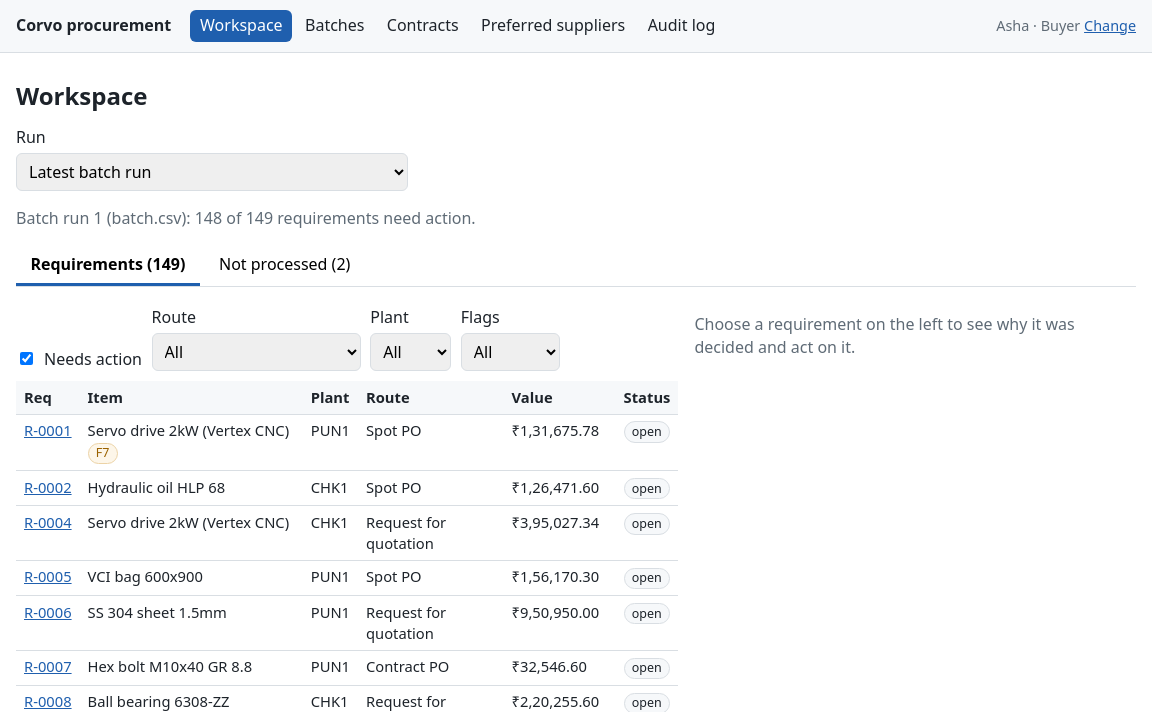
Test case: buyer workspace (B4) › renders the sample batch: the queue shows what needs action, and Not processed has its own tab
This screenshot has width=1152, height=712.
Click the checkbox labelled "Needs action" at (26, 359), box [20,352,33,365]
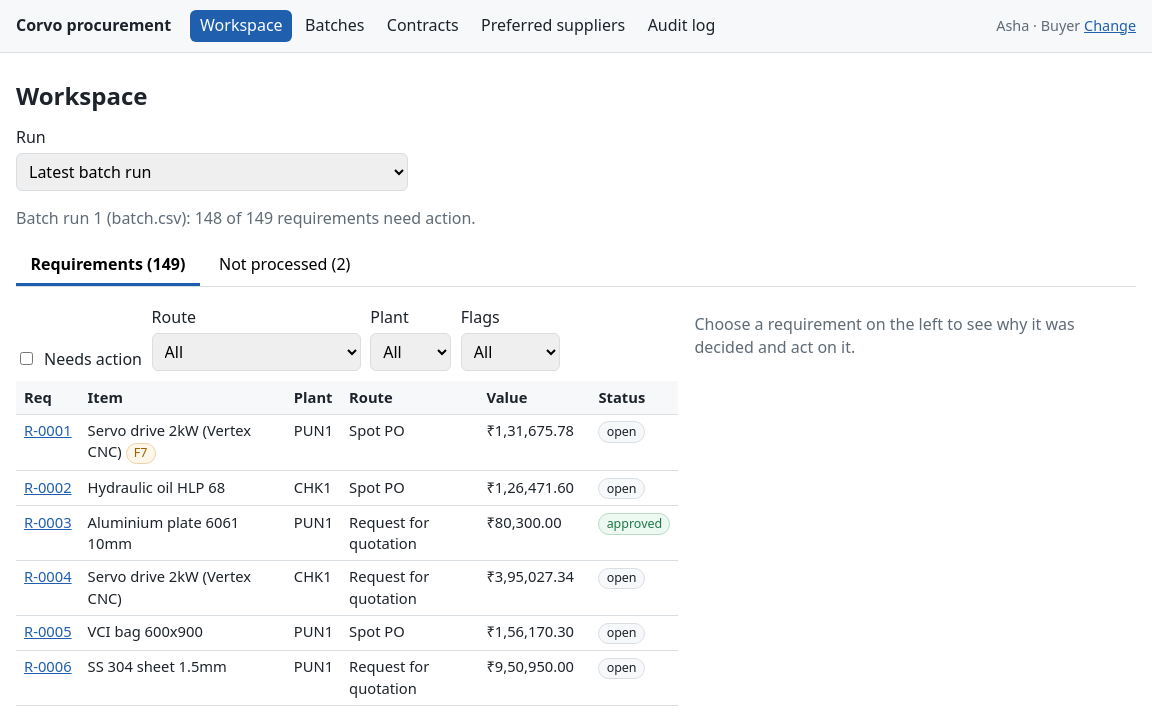
Click the tab "Not processed (2)" at (285, 266), box [205,246,365,286]
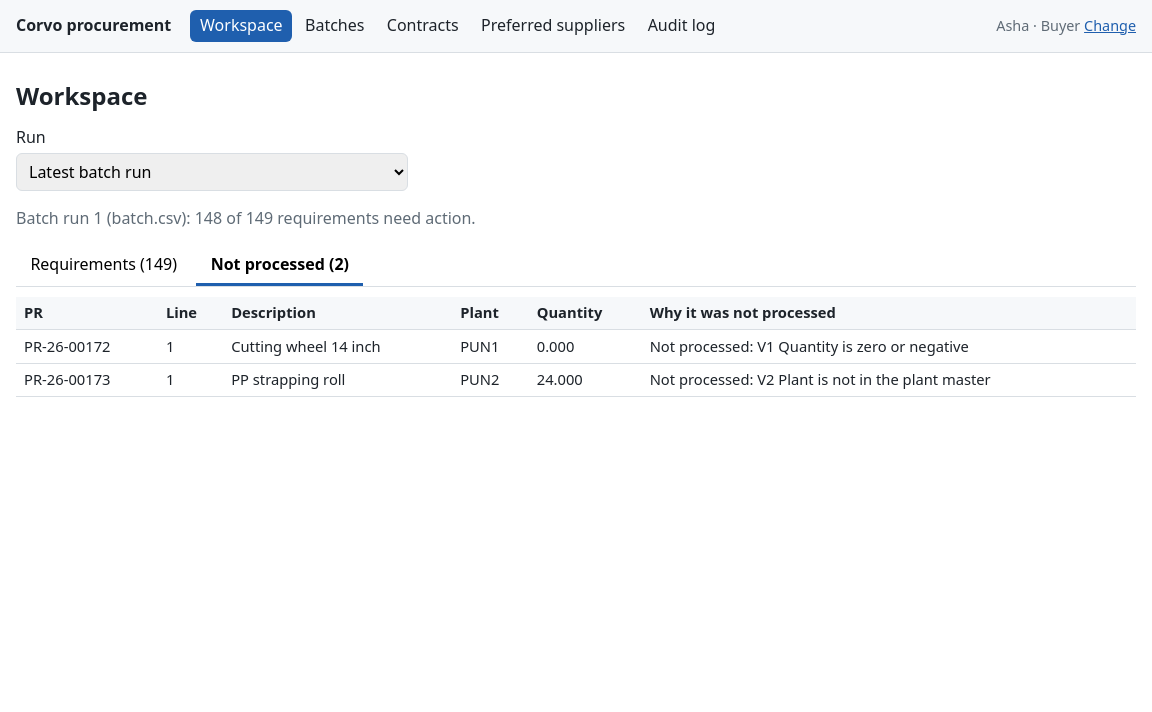
expect the text "Not processed: V1 Quantity is zero or negative" is shown: met, box [642,330,1136,363]
expect the text "Not processed: V2 Plant is not in the plant master" is shown: met, box [642,363,1136,397]
